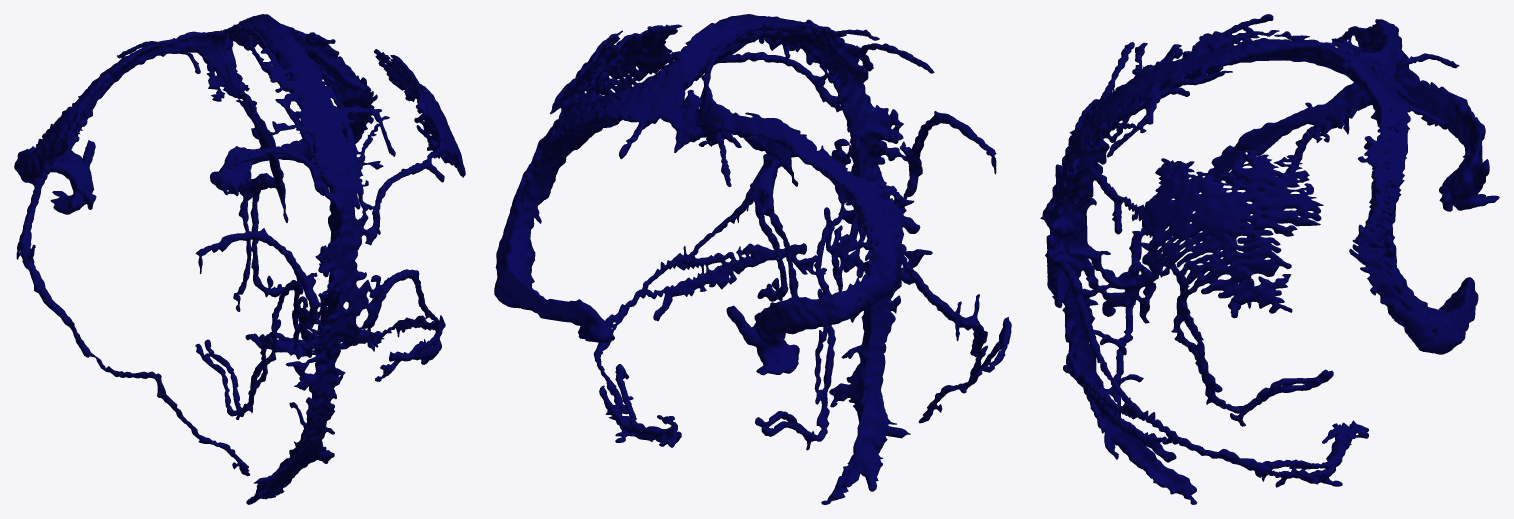
Rendered from Venous_sinus.obj.
3 renders of one model, left to right at view 1: azimuth 30°, elevation 25°; view 2: azimuth 150°, elevation 25°; view 3: azimuth 270°, elevation 25°, orthographic. The views are drawn at different scales.
Visible parts, largest first — view 1: grp1; view 2: grp1; view 3: grp1.
Part boxes in pixels (left/top/right/bottom): grp1: left=14, top=14, right=465, bottom=504; grp1: left=494, top=14, right=1011, bottom=504; grp1: left=1040, top=14, right=1499, bottom=504.
Bounding box in the file's own units: 154 × 162 × 135.
